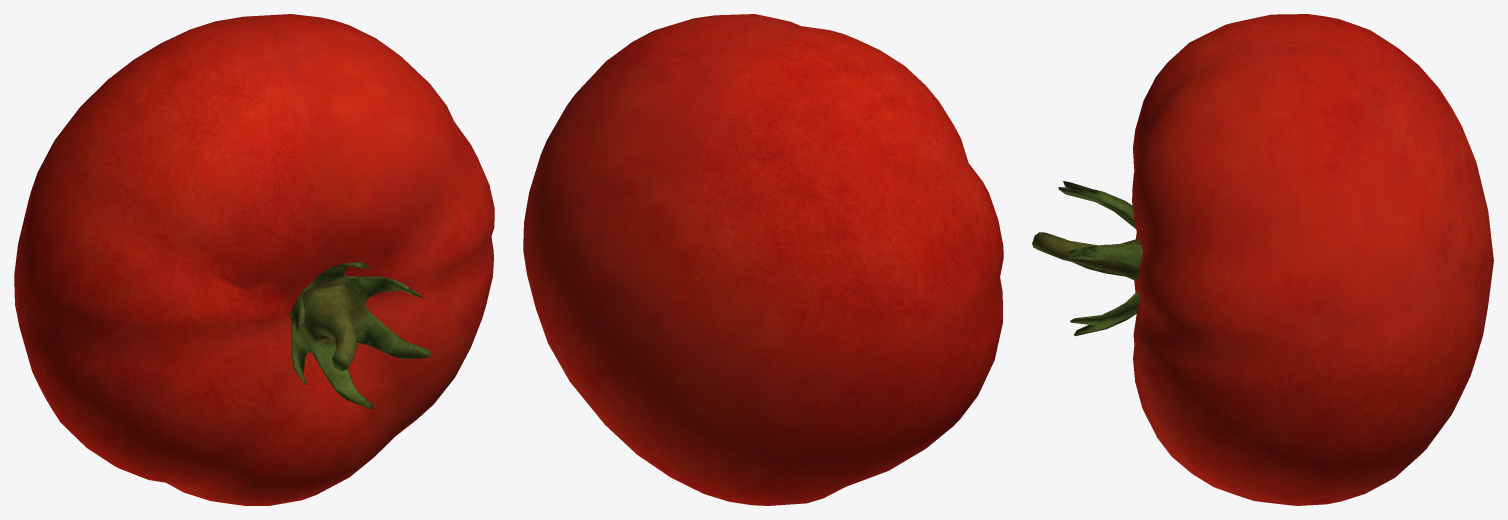
Rendered from tomato.obj.
3 views of the same model, side by side, from view 1: azimuth 30°, elevation 25°; view 2: azimuth 150°, elevation 25°; view 3: azimuth 270°, elevation 25° (orthographic).
Parts seen in each view (by area): view 1: tomato; view 2: tomato; view 3: tomato.
Boxes of the visible parts, bbox=[...] form: tomato: bbox=[14, 14, 494, 505]; tomato: bbox=[523, 14, 1003, 505]; tomato: bbox=[1032, 14, 1493, 505].
Size of the model in its own units: 12.45 by 12.45 by 11.52.
1 material, 1 textured.
